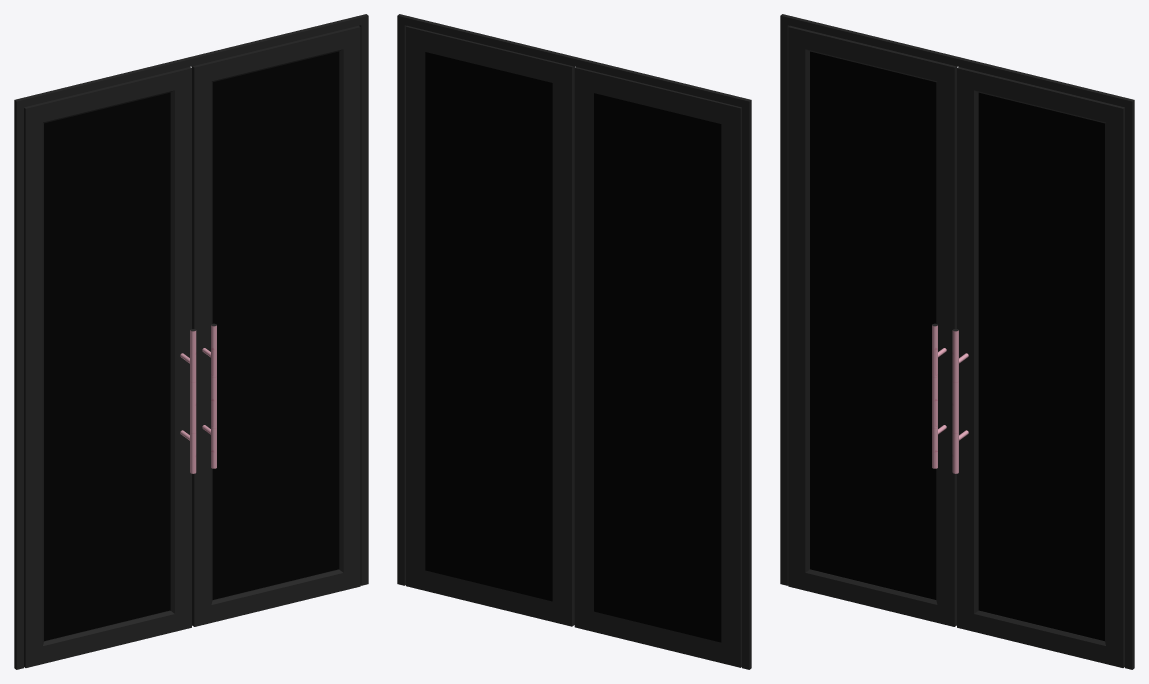
The model's file is Glass+Door.obj.
The picture shows the model from 3 angles, left to right: view 1: azimuth 30°, elevation 25°; view 2: azimuth 150°, elevation 25°; view 3: azimuth 330°, elevation 25°; orthographic projection.
Parts seen in each view (by area): view 1: Mesh6 Group6 Component_62_2 Group1 Model, Mesh1 Group2 Component_62_1 Group1 Model, Mesh10 Component_62_2 Group1 Model, Mesh5 Component_62_1 Group1 Model, Mesh11 Group1 Model, Mesh9 Group9 Component_65_2 Component_62_2 Group1 Model, Mesh4 Group5 Component_65_1 Component_62_1 Group1 Model; view 2: Mesh1 Group2 Component_62_1 Group1 Model, Mesh6 Group6 Component_62_2 Group1 Model, Mesh5 Component_62_1 Group1 Model, Mesh10 Component_62_2 Group1 Model, Mesh11 Group1 Model; view 3: Mesh1 Group2 Component_62_1 Group1 Model, Mesh6 Group6 Component_62_2 Group1 Model, Mesh5 Component_62_1 Group1 Model, Mesh10 Component_62_2 Group1 Model, Mesh11 Group1 Model, Mesh4 Group5 Component_65_1 Component_62_1 Group1 Model, Mesh9 Group9 Component_65_2 Component_62_2 Group1 Model.
Part boxes in pixels (x1,y1,x2,y2): Mesh6 Group6 Component_62_2 Group1 Model: (44, 92, 170, 641); Mesh1 Group2 Component_62_1 Group1 Model: (212, 51, 338, 599); Mesh10 Component_62_2 Group1 Model: (24, 67, 191, 667); Mesh5 Component_62_1 Group1 Model: (191, 25, 360, 626); Mesh11 Group1 Model: (14, 14, 368, 669); Mesh9 Group9 Component_65_2 Component_62_2 Group1 Model: (190, 329, 196, 473); Mesh4 Group5 Component_65_1 Component_62_1 Group1 Model: (211, 323, 216, 468); Mesh1 Group2 Component_62_1 Group1 Model: (425, 52, 552, 601); Mesh6 Group6 Component_62_2 Group1 Model: (594, 93, 721, 642); Mesh5 Component_62_1 Group1 Model: (406, 25, 574, 626); Mesh10 Component_62_2 Group1 Model: (574, 67, 741, 667); Mesh11 Group1 Model: (397, 14, 751, 669); Mesh1 Group2 Component_62_1 Group1 Model: (978, 92, 1104, 641); Mesh6 Group6 Component_62_2 Group1 Model: (810, 51, 936, 599); Mesh5 Component_62_1 Group1 Model: (957, 67, 1124, 667); Mesh10 Component_62_2 Group1 Model: (788, 25, 957, 626); Mesh11 Group1 Model: (780, 14, 1134, 669); Mesh4 Group5 Component_65_1 Component_62_1 Group1 Model: (952, 329, 958, 473); Mesh9 Group9 Component_65_2 Component_62_2 Group1 Model: (932, 323, 937, 468).
Size of the model in its own units: 72 by 111 by 5.22.
Materials: 3 (1 with a texture image).
